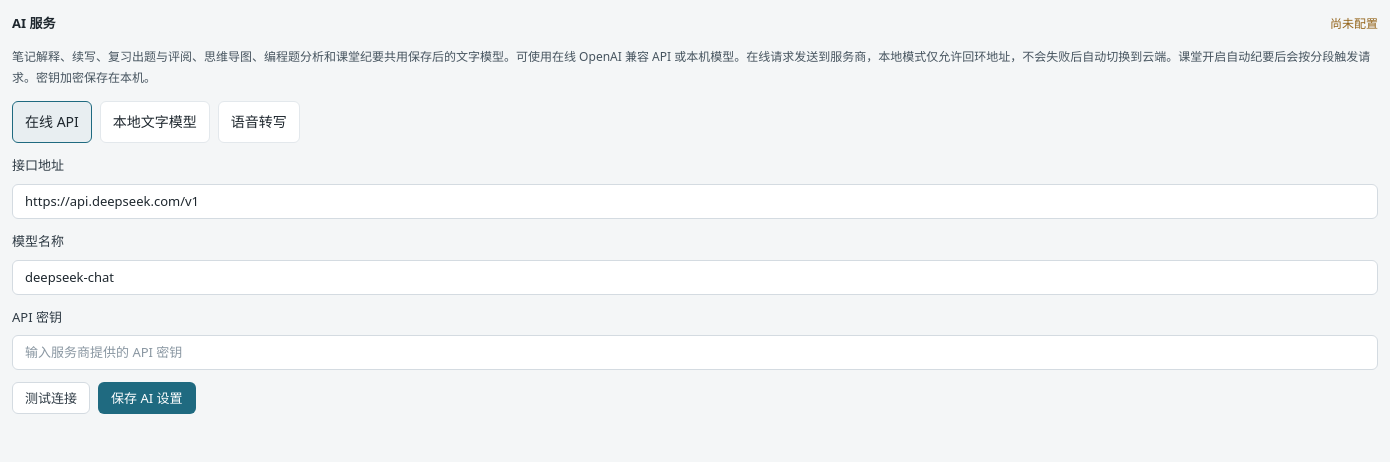
AI provider preferences › tests the current form without sending note content
Expected: the field showing "deepseek-chat" is shown, [12, 260, 1378, 295]
In the password field labelled "API 密钥": [695, 353] box [12, 335, 1378, 370], type "sk-test"
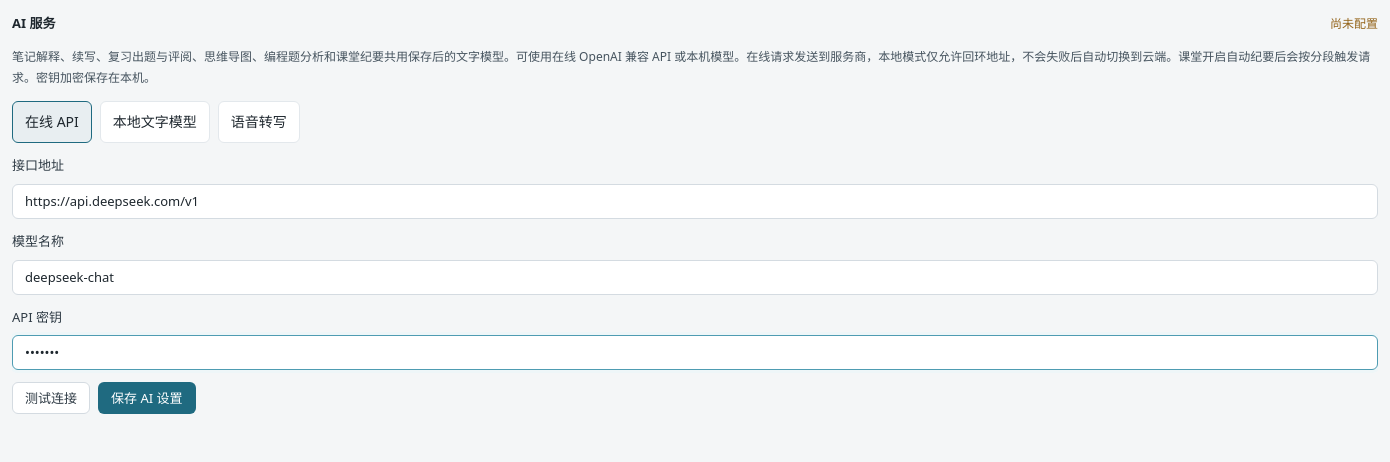
Click the button "测试连接": [51, 398] box [12, 382, 90, 414]
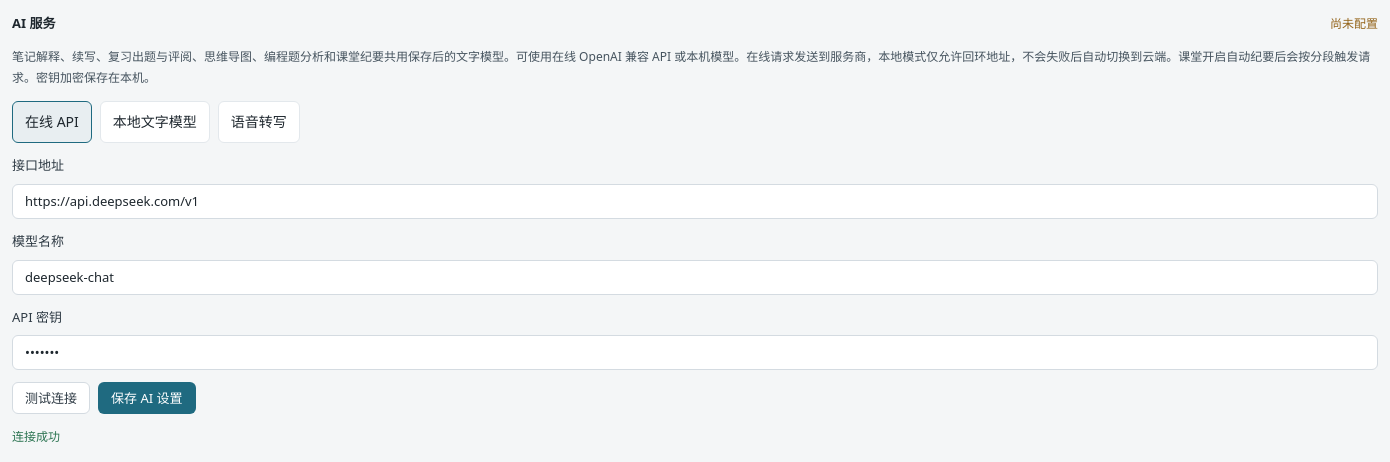
Now the text "连接成功" is shown, box [12, 428, 60, 445]
